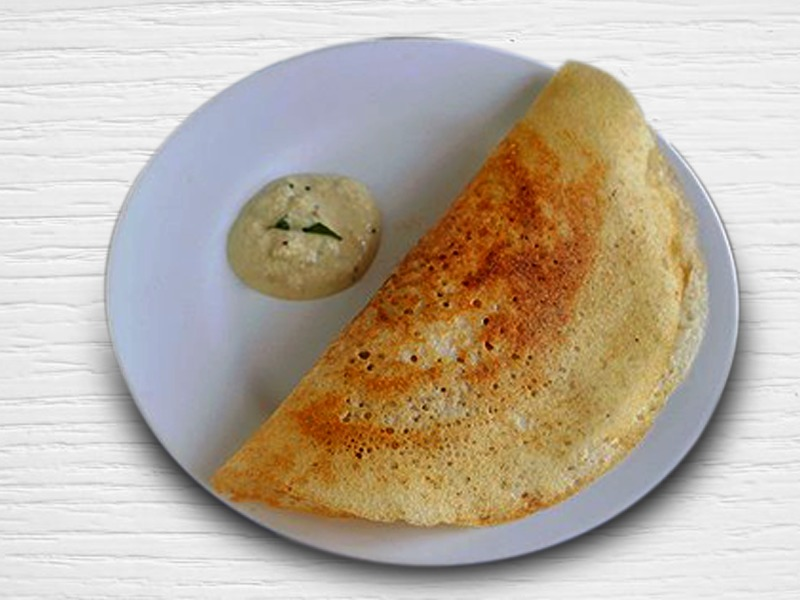dosa: (197, 51, 710, 530)
